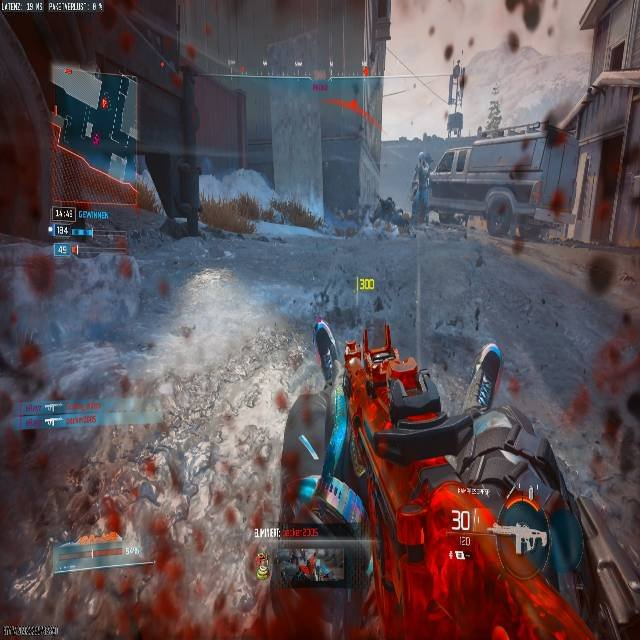player: (311, 343, 580, 640), (280, 318, 438, 530), (368, 194, 411, 237), (410, 152, 437, 215)
